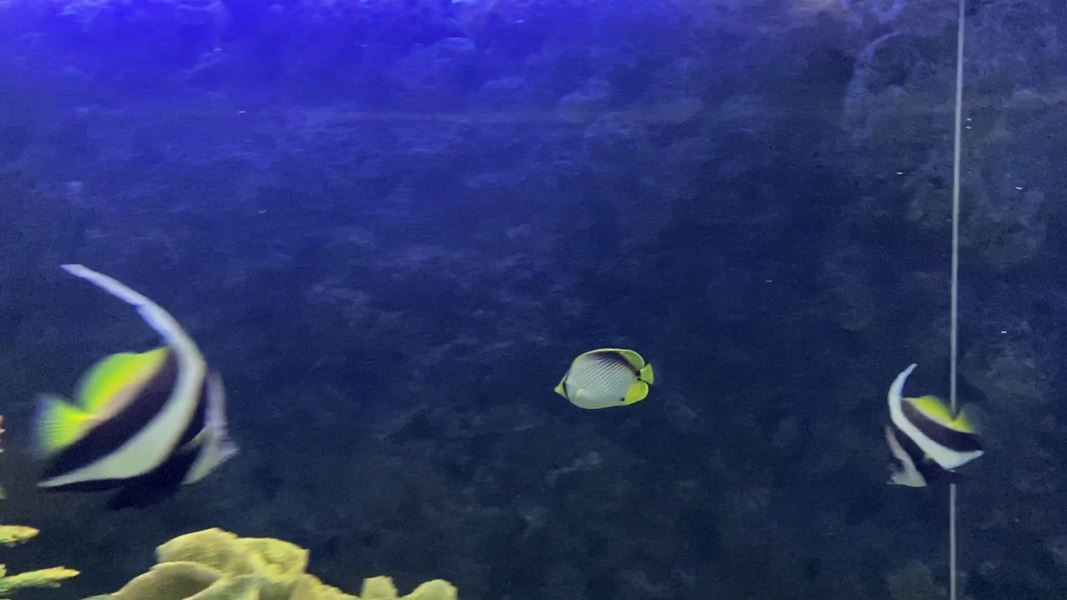Black-backed butterflyfish: (546, 340, 670, 419)
